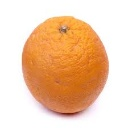orange: (21, 14, 110, 115)
